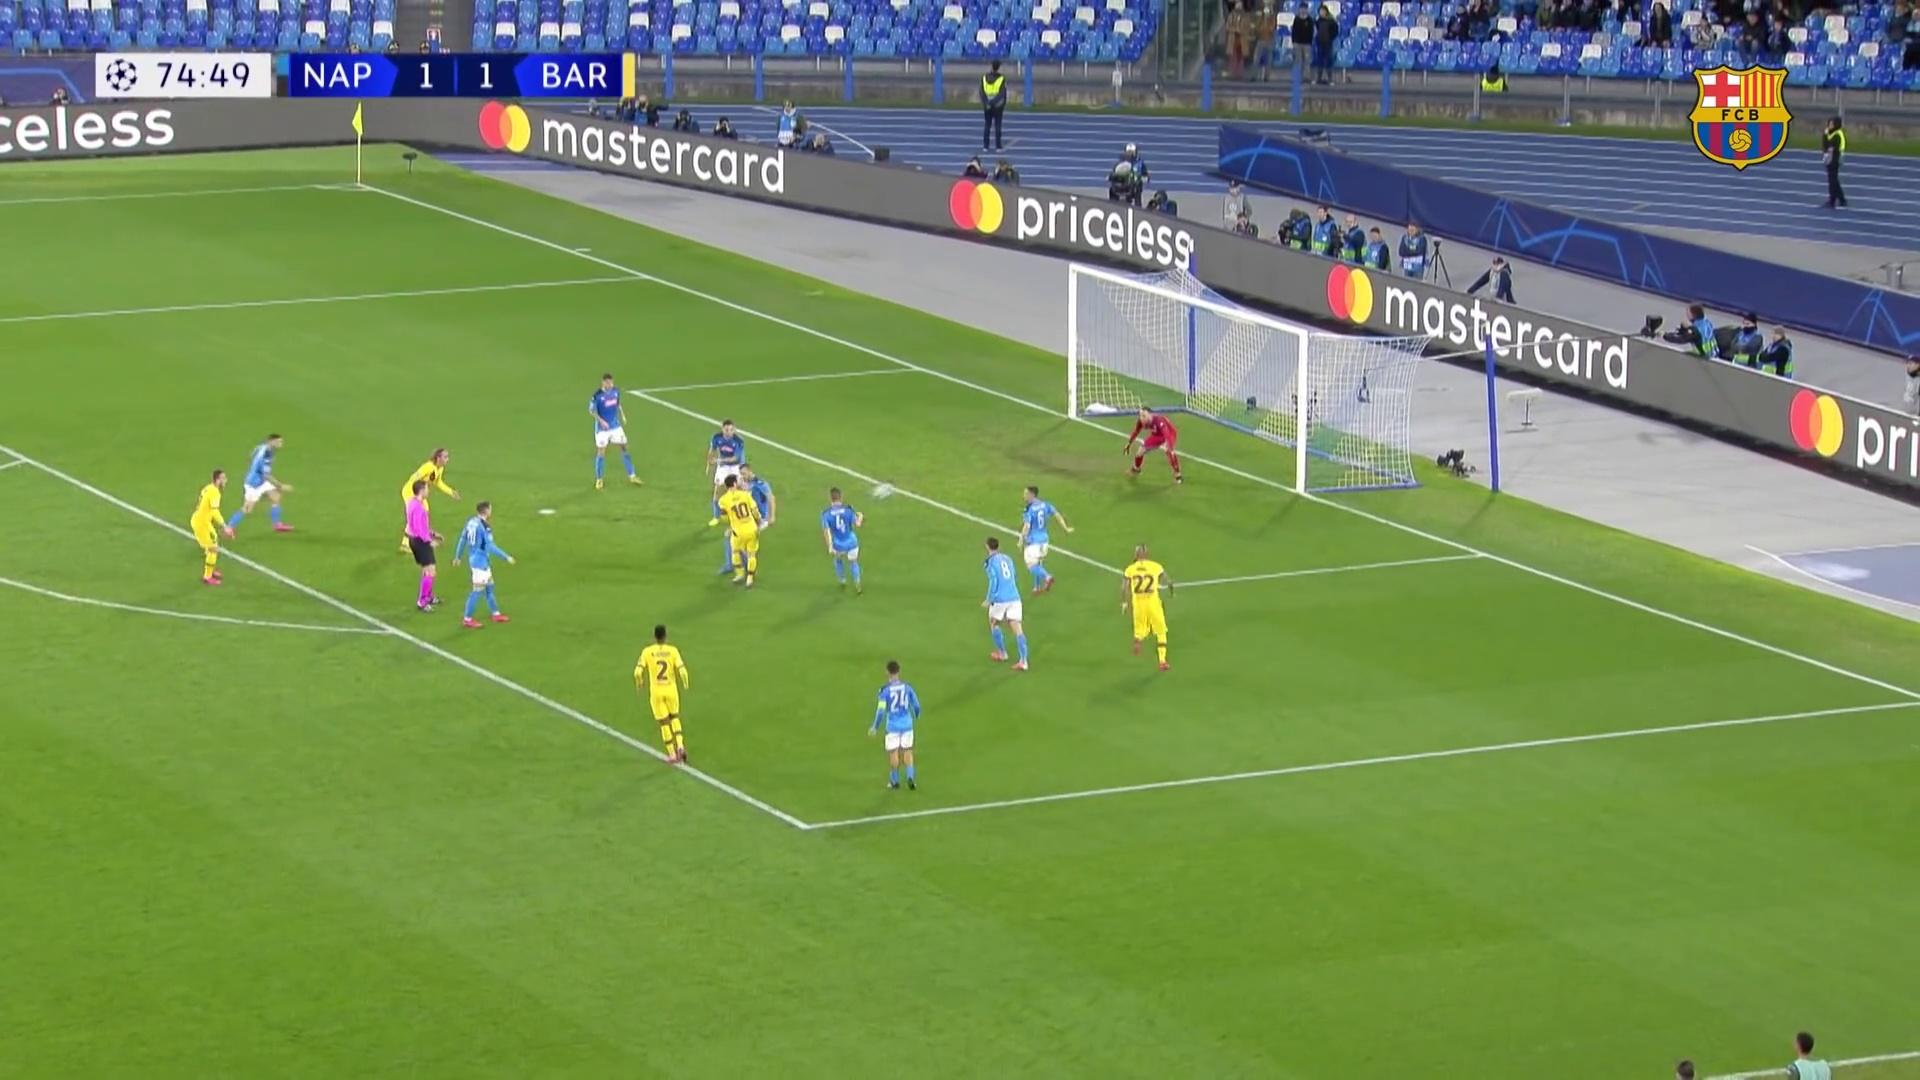ball: (866, 478, 899, 508)
goalkeeper: (1125, 401, 1191, 496)
player: (631, 622, 696, 771), (452, 500, 519, 635), (1119, 541, 1182, 675), (713, 464, 780, 587), (867, 658, 925, 794), (979, 533, 1034, 674), (224, 429, 293, 540), (397, 442, 463, 556), (1014, 481, 1078, 596), (584, 370, 643, 491), (708, 415, 762, 528), (814, 486, 869, 595), (717, 475, 768, 592), (187, 469, 231, 592)
referee: (401, 477, 447, 613)
